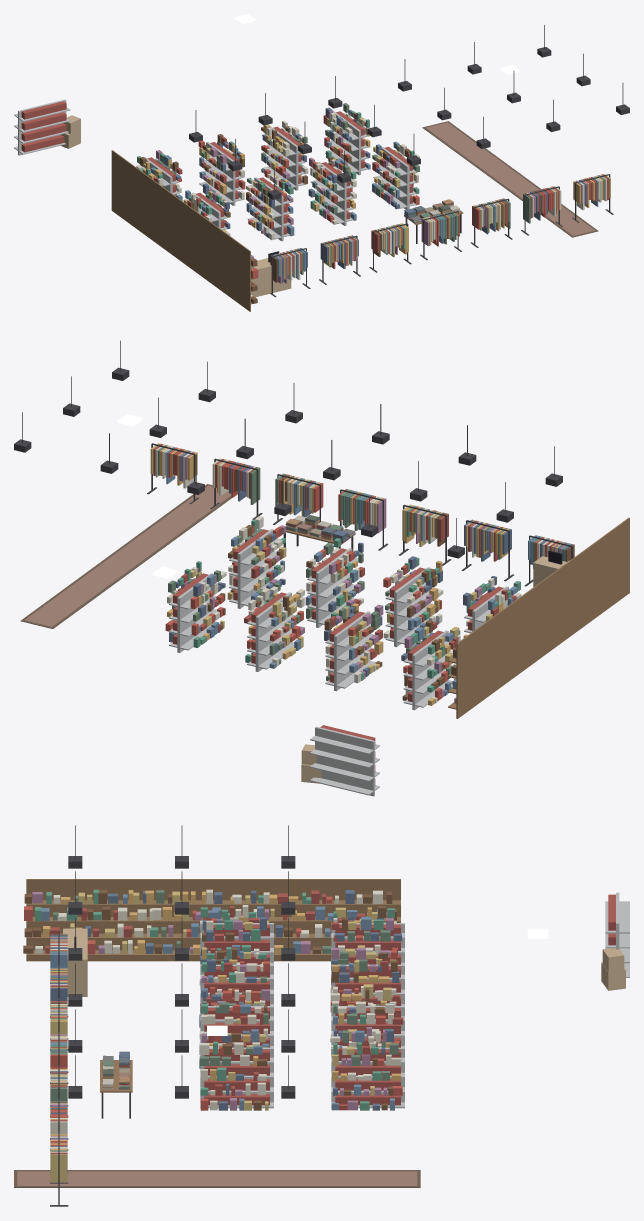
The model's file is fine-s0.glb.
3 views of the same model, one above another, from view 1: azimuth 30°, elevation 25°; view 2: azimuth 150°, elevation 25°; view 3: azimuth 270°, elevation 25° (orthographic). The views are drawn at different scales.
Visible parts, largest first — view 1: soft-s0, shelving.000, shelf.007, shelf.006, shelf.004, shelf.003, shelf.005, shelf.002, shop-counter.000, cardboard-box.000, shelf.000, shelf.001; view 2: soft-s0, shelving.000, shelf.002, shelf.004, shelf.000, shelf.007, shelf.005, shelf.006, shelf.003, shelf.001, shop-counter.000; view 3: soft-s0, shelf.006, shelf.007, shelf.003, shelving.000, shelf.001, shelf.002, shelf.000, shelf.004, shelf.005, shop-counter.000, cardboard-box.000.
Boxes of the visible parts, x1=… form: soft-s0: x1=111, y1=25, x2=629, y2=311; shelving.000: x1=14, y1=99, x2=70, y2=155; shelf.007: x1=373, y1=146, x2=416, y2=209; shelf.006: x1=325, y1=111, x2=367, y2=175; shelf.004: x1=262, y1=126, x2=304, y2=190; shelf.003: x1=247, y1=177, x2=290, y2=241; shelf.005: x1=310, y1=162, x2=353, y2=225; shelf.002: x1=199, y1=142, x2=242, y2=205; shop-counter.000: x1=251, y1=251, x2=291, y2=297; cardboard-box.000: x1=60, y1=115, x2=80, y2=148; shelf.000: x1=136, y1=157, x2=179, y2=194; shelf.001: x1=191, y1=192, x2=227, y2=230; soft-s0: x1=14, y1=340, x2=629, y2=718; shelving.000: x1=310, y1=725, x2=379, y2=796; shelf.002: x1=325, y1=611, x2=375, y2=691; shelf.004: x1=247, y1=592, x2=296, y2=671; shelf.000: x1=403, y1=630, x2=452, y2=710; shelf.007: x1=229, y1=529, x2=280, y2=608; shelf.005: x1=307, y1=548, x2=358, y2=627; shelf.006: x1=169, y1=573, x2=216, y2=652; shelf.003: x1=385, y1=567, x2=435, y2=647; shelf.001: x1=464, y1=586, x2=508, y2=633; shop-counter.000: x1=533, y1=550, x2=569, y2=586; soft-s0: x1=14, y1=825, x2=420, y2=1206; shelf.006: x1=331, y1=1047, x2=404, y2=1108; shelf.007: x1=200, y1=1047, x2=273, y2=1108; shelf.003: x1=200, y1=964, x2=273, y2=1005; shelving.000: x1=605, y1=892, x2=629, y2=977; shelf.001: x1=200, y1=923, x2=273, y2=964; shelf.002: x1=331, y1=964, x2=404, y2=1005; shelf.000: x1=331, y1=923, x2=404, y2=964; shelf.004: x1=331, y1=1006, x2=404, y2=1047; shelf.005: x1=200, y1=1006, x2=273, y2=1047; shop-counter.000: x1=63, y1=928, x2=87, y2=996; cardboard-box.000: x1=601, y1=948, x2=625, y2=990.
Size of the model in its own units: 15.6 by 4.4 by 15.04.
